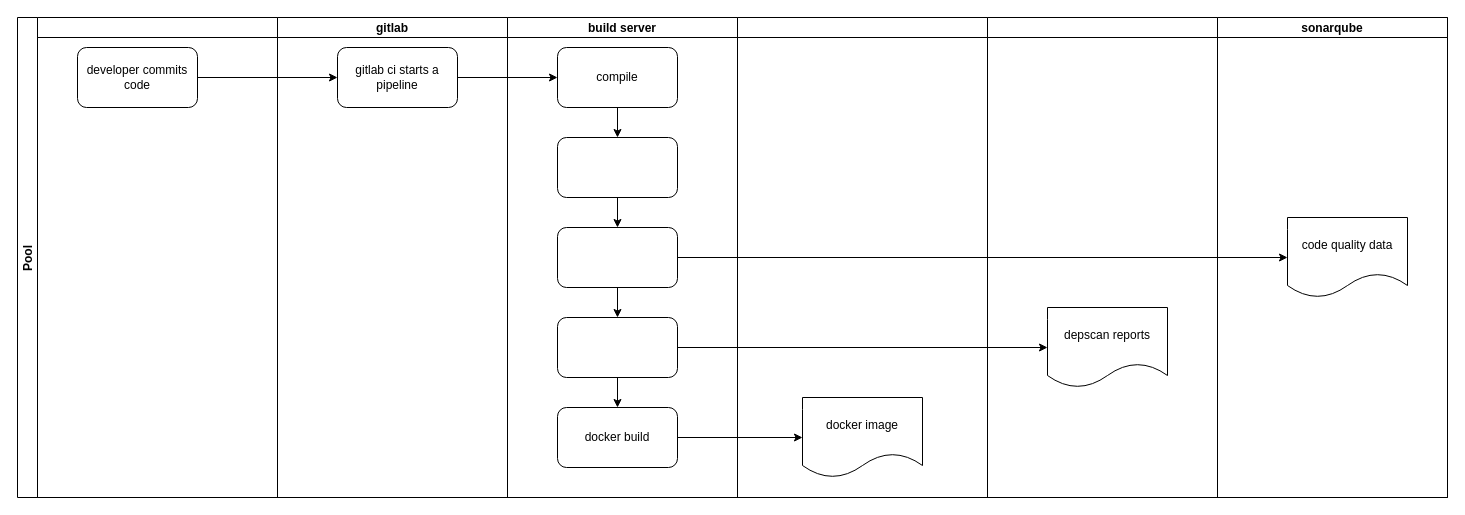
This 1465x515 diagram has some shape labels left out. Each missing label, with the box of its shape:
artifacts: (986, 16, 1218, 498)
dependencies scan: (556, 316, 678, 378)
gitlab container registry: (736, 16, 988, 498)
sast code scan: (556, 226, 678, 288)
unit tests: (556, 136, 678, 198)
user desktop: (36, 16, 278, 498)
